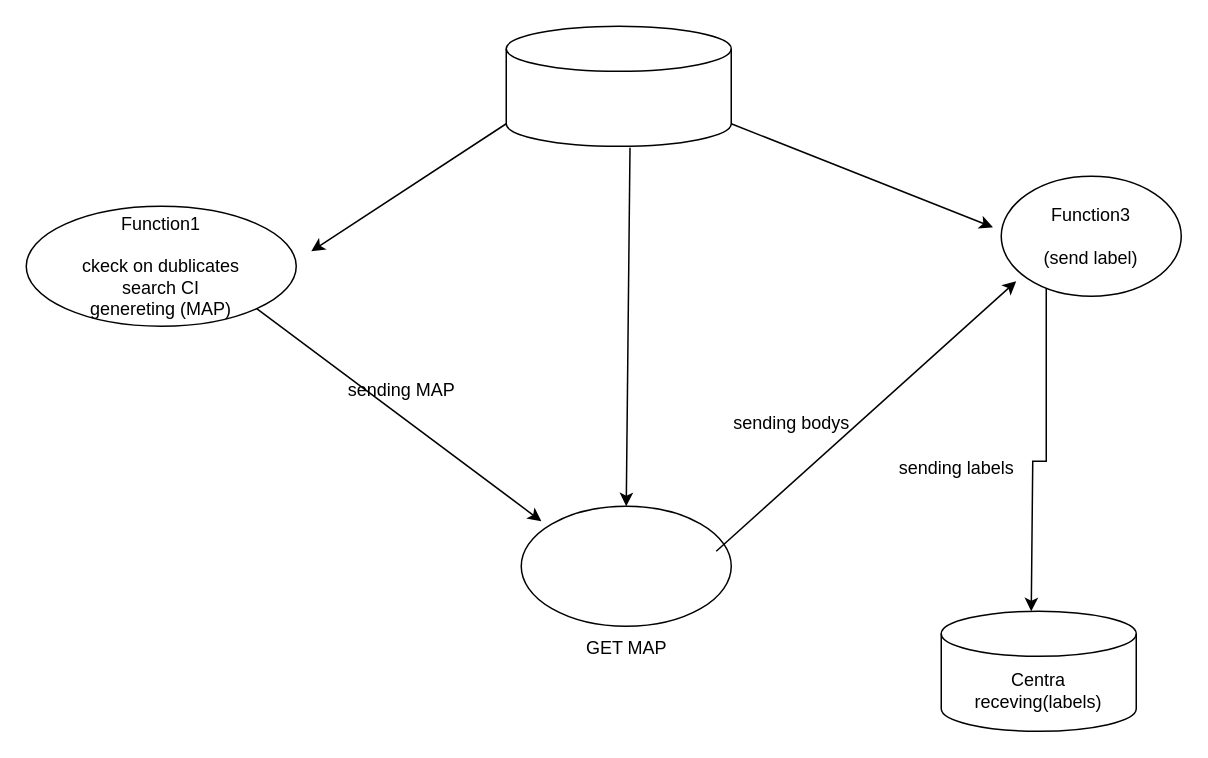
Some shapes in this 1208 by 758 pixel diagram are drawn without their labels. Here are the shapes that lost their labels. From the top down, the centre of each, then its label:
At point (618, 85): "Loop (key field) line: 168".
At point (625, 565): "Function2 Main processFunction (MAP) generating bodys".
